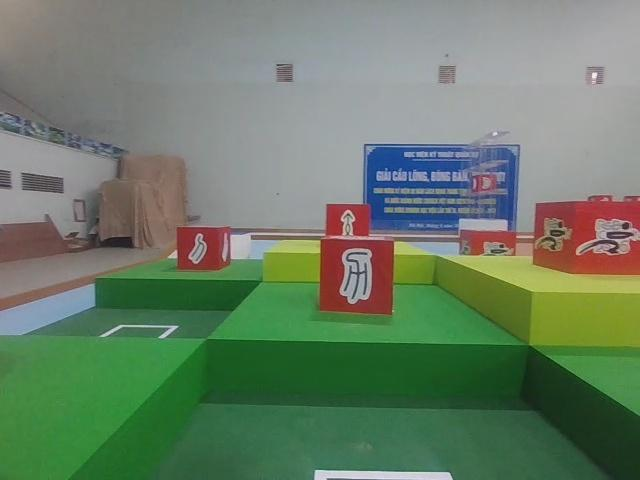R1: (530, 198, 640, 280)
R2 Fake: (317, 233, 398, 317)
R2 Real: (175, 224, 234, 274), (324, 201, 372, 248)
